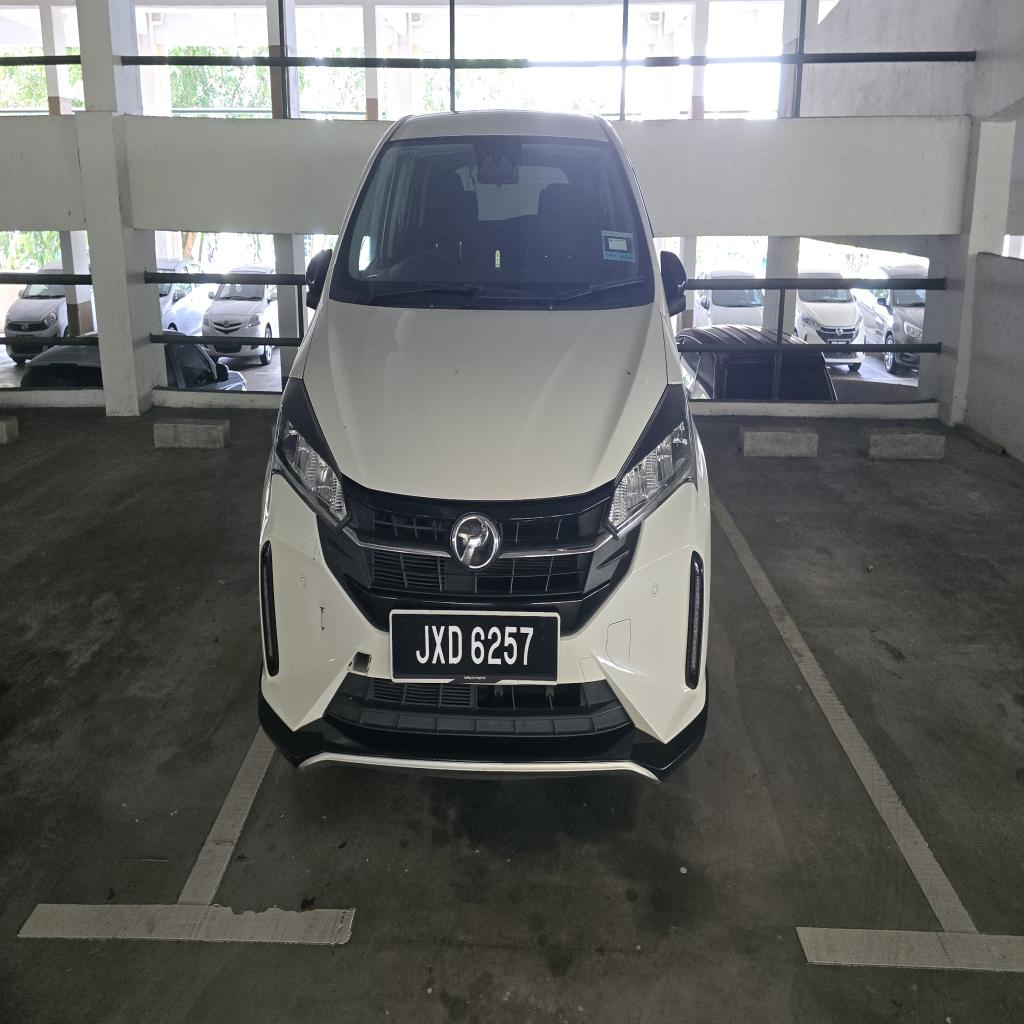car: (259, 112, 709, 778)
car plate: (390, 611, 559, 682)
